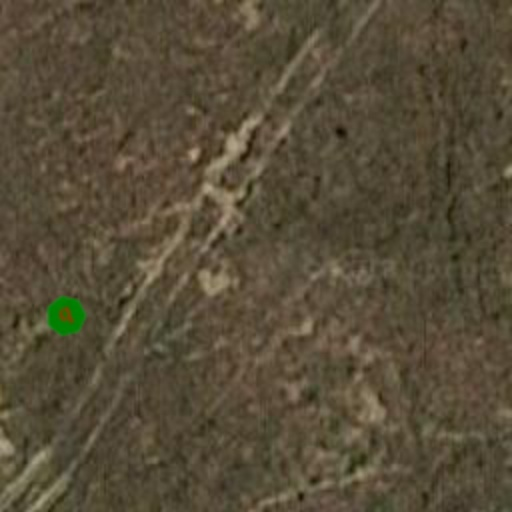heptagon: (36, 286, 96, 346)
